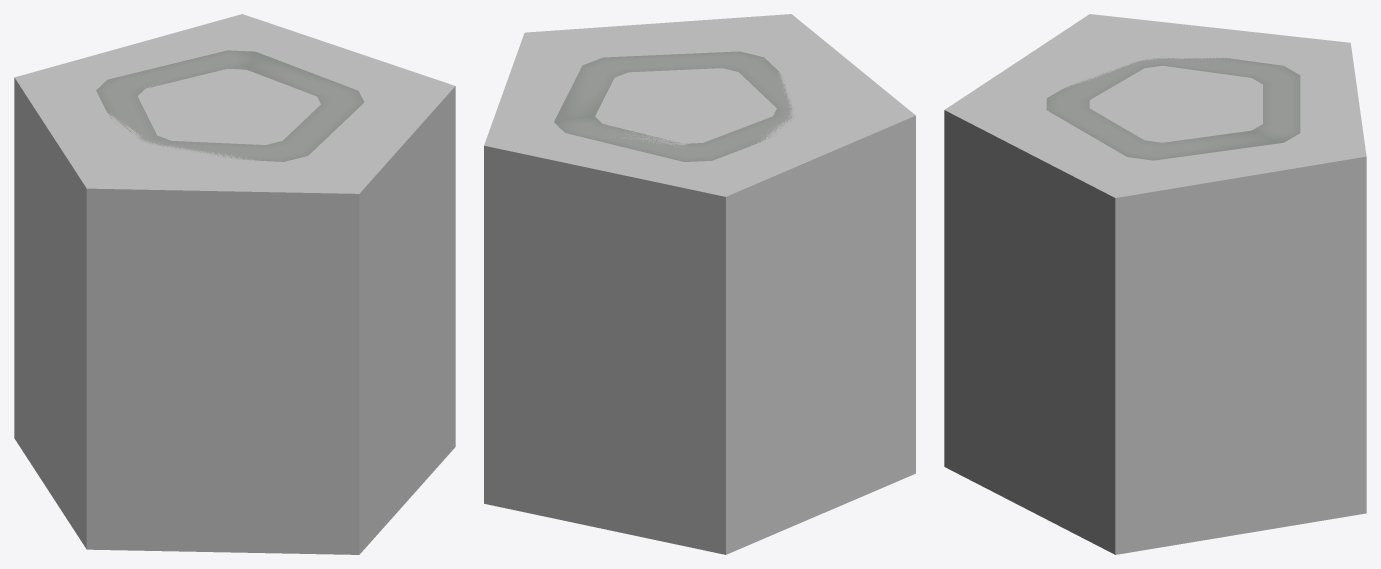
The model's file is SM_Crate_04.fbx.
3 views of the same model, side by side, from view 1: azimuth 30°, elevation 25°; view 2: azimuth 150°, elevation 25°; view 3: azimuth 270°, elevation 25° (orthographic).
Visible parts, largest first — view 1: SM_Crate_04_ConvexHulls, SM_Crate_04; view 2: SM_Crate_04_ConvexHulls, SM_Crate_04; view 3: SM_Crate_04_ConvexHulls, SM_Crate_04.
Boxes of the visible parts, x1,y1,x2,y2 form: SM_Crate_04_ConvexHulls: [14, 14, 455, 554]; SM_Crate_04: [96, 50, 364, 161]; SM_Crate_04_ConvexHulls: [484, 14, 915, 554]; SM_Crate_04: [554, 51, 794, 161]; SM_Crate_04_ConvexHulls: [944, 14, 1366, 554]; SM_Crate_04: [1046, 57, 1300, 160].
Size of the model in its own units: 135 by 131 by 124.
Materials: 2 (1 with a texture image).
